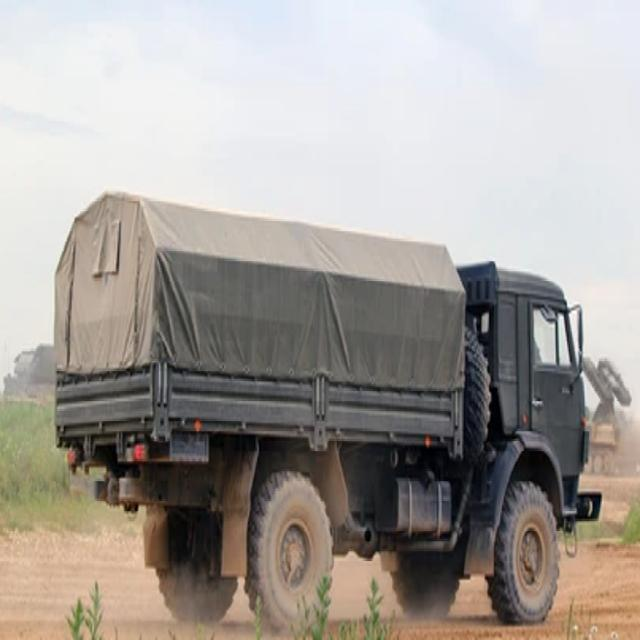TRUCK: (49, 190, 603, 630)
